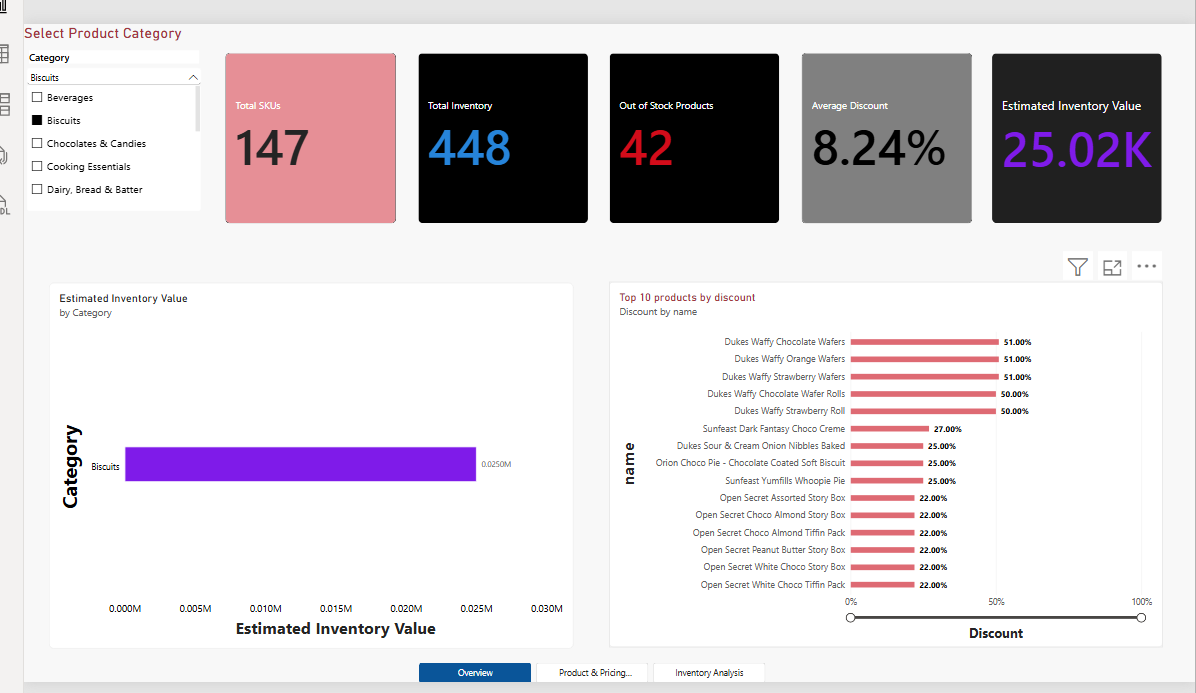

Layout of this report page (visuals, bound fields, positions):
{"tool":"powerbi","page":{"name":"Overview","canvas":[1920,1080],"ordinal":0},"visuals":[{"type":"cardVisual","fields":{"Data":["zepto_cleaned.Total SKUs"]},"box":[330,47.5,280,280],"z":0},{"type":"cardVisual","fields":{"Data":["zepto_cleaned.Total Inventory"]},"box":[645,47.5,280,280],"z":1000},{"type":"cardVisual","fields":{"Data":["zepto_cleaned.Average Discount"]},"box":[1275,47.5,280,280],"z":2000},{"type":"cardVisual","fields":{"Data":["zepto_cleaned.Estimated Inventory Value"]},"box":[1586.7,46.7,280,280],"z":3000},{"type":"cardVisual","fields":{"Data":["Sum(zepto_cleaned.Out of Stock)"]},"box":[960,47.5,280,280],"z":4000},{"type":"clusteredBarChart","title":"\tTop 10 products by discount","fields":{"Category":["zepto_cleaned.name"],"Y":["zepto_cleaned.Average Discount"]},"box":[960,422.5,908,600],"z":5000},{"type":"clusteredBarChart","fields":{"Category":["zepto_cleaned.Category"],"Y":["zepto_cleaned.Estimated Inventory Value"]},"box":[40,423.3,860,600],"z":7000},{"type":"slicer","title":"Select Product Category","fields":{"Values":["zepto_cleaned.Category"]},"box":[0,0,295,280],"z":7001},{"type":"pageNavigator","box":[646.7,1046.7,570,33.3],"z":7002}]}

Visuals, with their boxes on the page's 1920x1080 design canvas (x1, y1, x2, y2). These are canvas units, not pixel positions in the 1196x693 screenshot, which may show the page scaled, cropped or inside an application window:
cardVisual - zepto_cleaned.Total SKUs: <box>330,48,610,328</box>
cardVisual - zepto_cleaned.Total Inventory: <box>645,48,925,328</box>
cardVisual - zepto_cleaned.Average Discount: <box>1275,48,1555,328</box>
cardVisual - zepto_cleaned.Estimated Inventory Value: <box>1587,47,1867,327</box>
cardVisual - Sum(zepto_cleaned.Out of Stock): <box>960,48,1240,328</box>
"	Top 10 products by discount" clusteredBarChart: <box>960,422,1868,1022</box>
clusteredBarChart - zepto_cleaned.Category x zepto_cleaned.Estimated Inventory Value: <box>40,423,900,1023</box>
"Select Product Category" slicer: <box>0,0,295,280</box>
pageNavigator: <box>647,1047,1217,1080</box>
